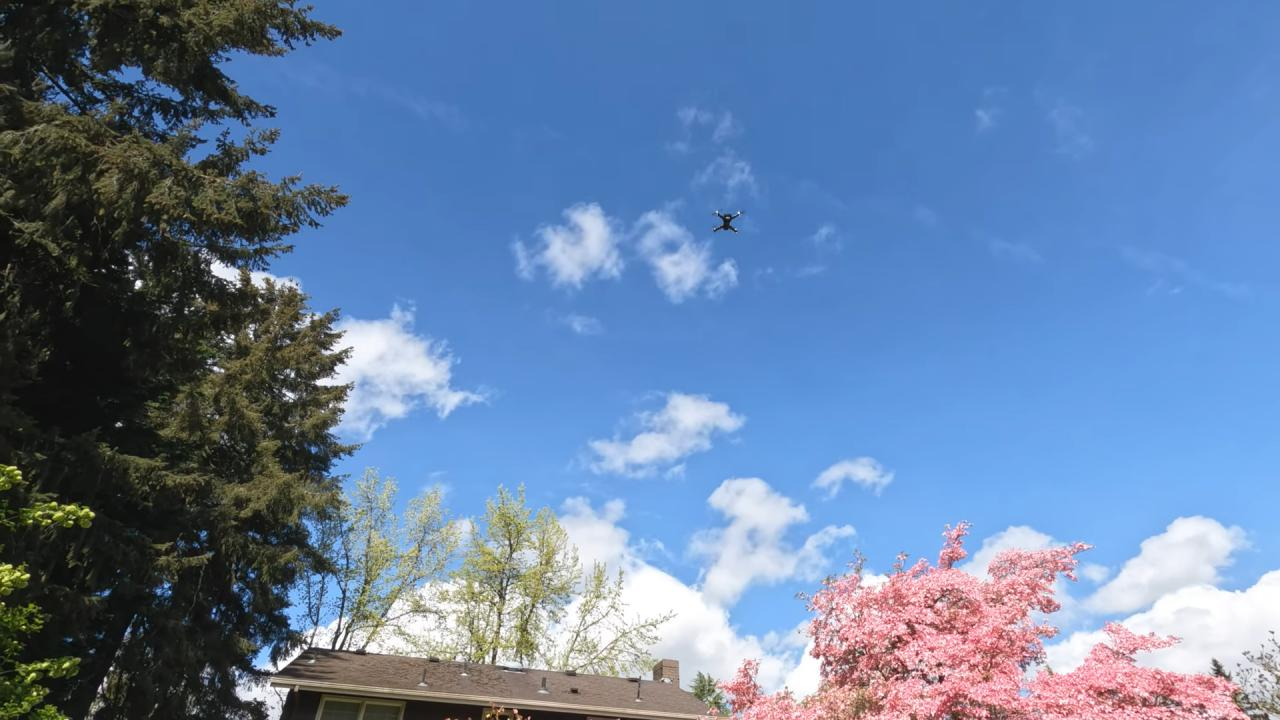Drone: (708, 204, 752, 239)
